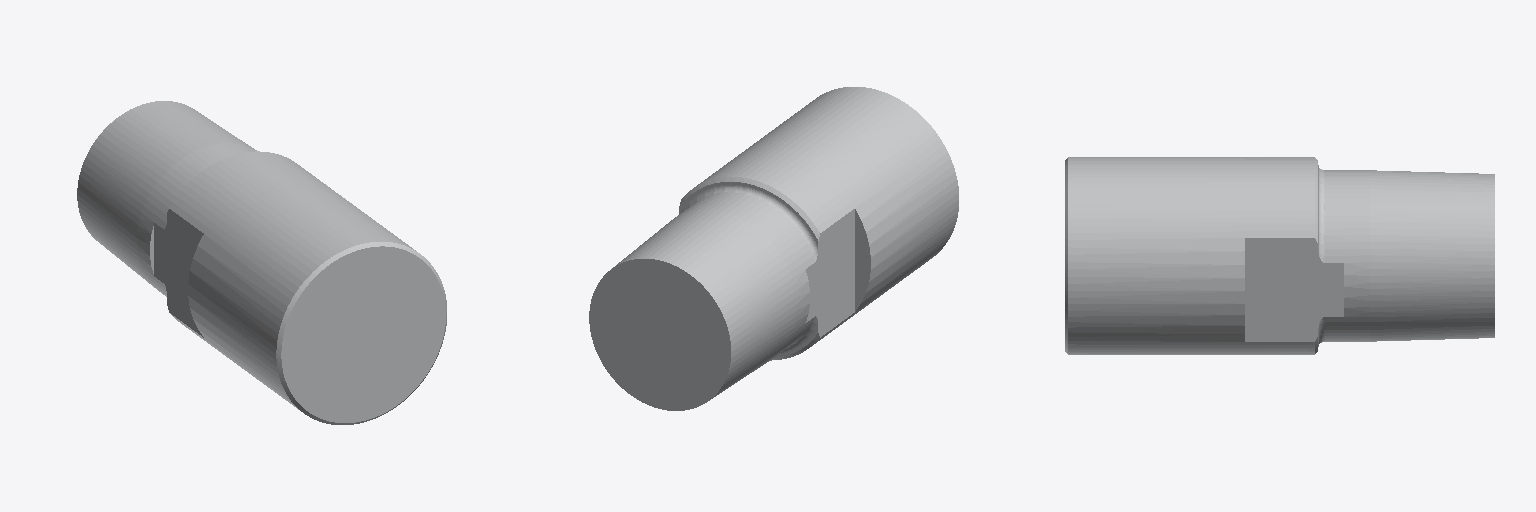
Rendered from Toolholder.obj.
3 views of the same model, side by side, from view 1: azimuth 30°, elevation 25°; view 2: azimuth 150°, elevation 25°; view 3: azimuth 270°, elevation 25° (orthographic).
Parts seen in each view (by area): view 1: 5d3fbc267ba78015bd7afd09_ID3; view 2: 5d3fbc267ba78015bd7afd09_ID3; view 3: 5d3fbc267ba78015bd7afd09_ID3.
Part boxes in pixels (x1,y1,x2,y2): 5d3fbc267ba78015bd7afd09_ID3: (77, 101, 446, 424); 5d3fbc267ba78015bd7afd09_ID3: (589, 87, 958, 410); 5d3fbc267ba78015bd7afd09_ID3: (1065, 157, 1494, 354).
Size of the model in its own units: 15.98 by 15.98 by 34.85.